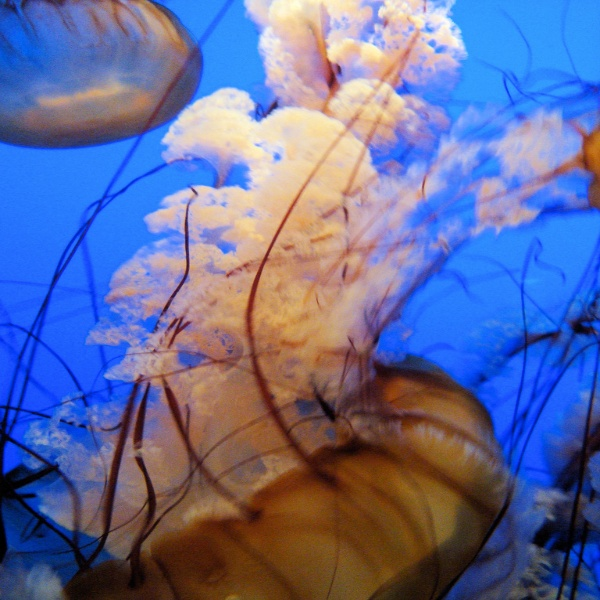Jellyfish: (0, 0, 599, 599), (0, 0, 202, 147)
